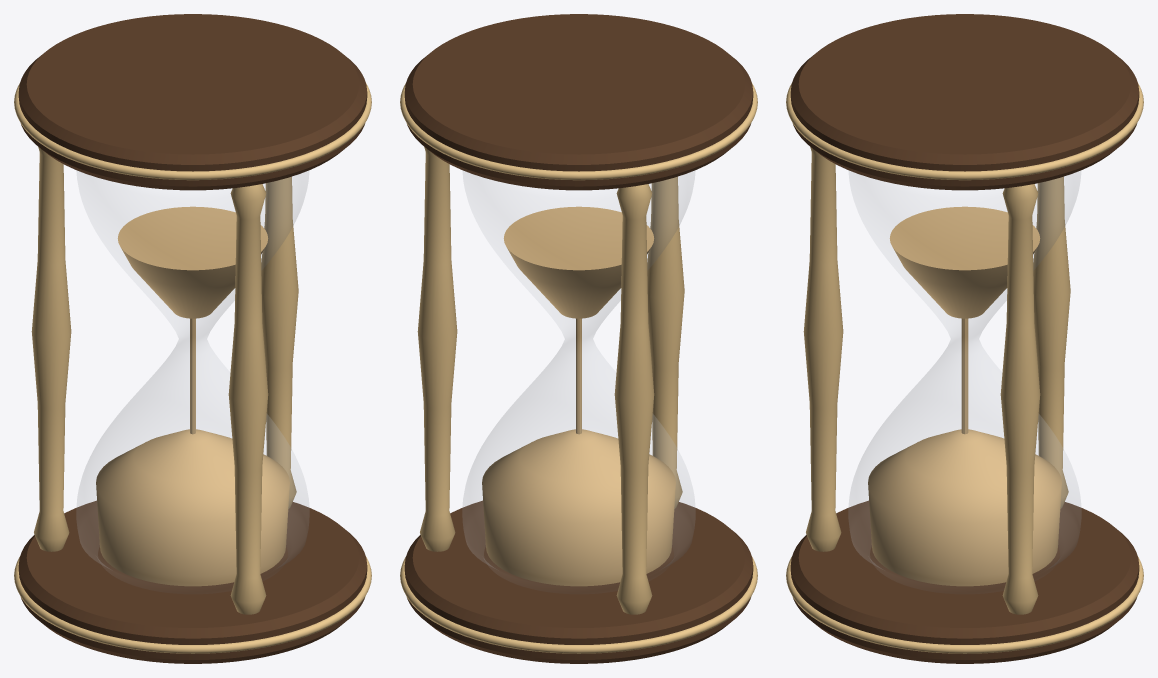
Rendered from hourglass.glb.
The picture shows the model from 3 angles, left to right: view 1: azimuth 30°, elevation 25°; view 2: azimuth 150°, elevation 25°; view 3: azimuth 270°, elevation 25°; orthographic projection.
Parts seen in each view (by area): view 1: plate.001, plate, glass, sand_bottom, post.002, post.001, sand_top, post, platering.001, platering, stream; view 2: plate.001, plate, glass, sand_bottom, post.001, post, sand_top, post.002, platering.001, platering, stream; view 3: plate.001, plate, glass, sand_bottom, post, post.002, sand_top, post.001, platering.001, platering, stream.
Boxes of the visible parts, x1,y1,x2,y2 form: plate.001: (18,14,367,190); plate: (18,500,367,663); glass: (76,171,309,570); sand_bottom: (96,429,289,586); post.002: (228,184,268,614); post.001: (31,147,71,551); sand_top: (117,206,268,318); post: (261,176,298,508); platering.001: (14,83,371,180); platering: (14,557,371,653); stream: (190,318,195,434); plate.001: (404,14,753,190); plate: (404,500,753,663); glass: (462,171,695,570); sand_bottom: (482,429,675,586); post.001: (614,184,654,614); post: (417,147,457,551); sand_top: (503,206,654,318); post.002: (647,176,684,508); platering.001: (400,83,757,180); platering: (400,557,757,653); stream: (576,318,581,434); plate.001: (790,14,1139,190); plate: (790,500,1139,663); glass: (848,171,1081,570); sand_bottom: (868,429,1061,586); post: (1000,184,1040,614); post.002: (803,147,843,551); sand_top: (889,206,1040,318); post.001: (1033,176,1070,508); platering.001: (786,83,1143,180); platering: (786,557,1143,653); stream: (961,318,968,434).
Bounding box in the file's own units: 0.904 × 1.42 × 0.904.
